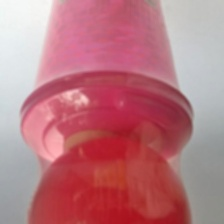glass: (9, 0, 204, 172)
